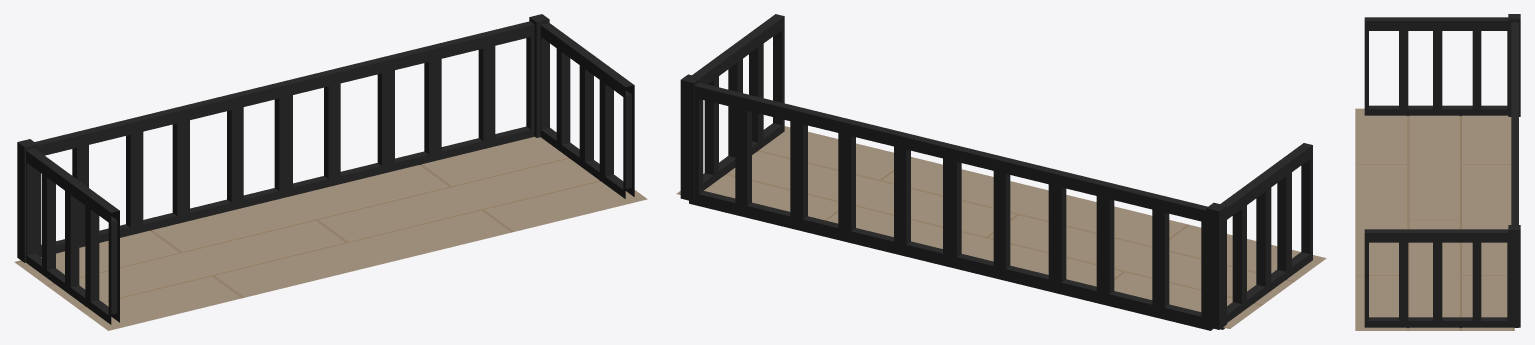
Rendered from M_Handrail.FBX.
The picture shows the model from 3 angles, left to right: view 1: azimuth 30°, elevation 25°; view 2: azimuth 150°, elevation 25°; view 3: azimuth 270°, elevation 25°; orthographic projection. The views are drawn at different scales.
Parts seen in each view (by area): view 1: Box038; view 2: Box038; view 3: Box038.
Part boxes in pixels (x1,y1,x2,y2): Box038: (14, 14, 647, 330); Box038: (676, 14, 1326, 330); Box038: (1355, 14, 1520, 330).
Size of the model in its own units: 406 by 128 by 85.94.
